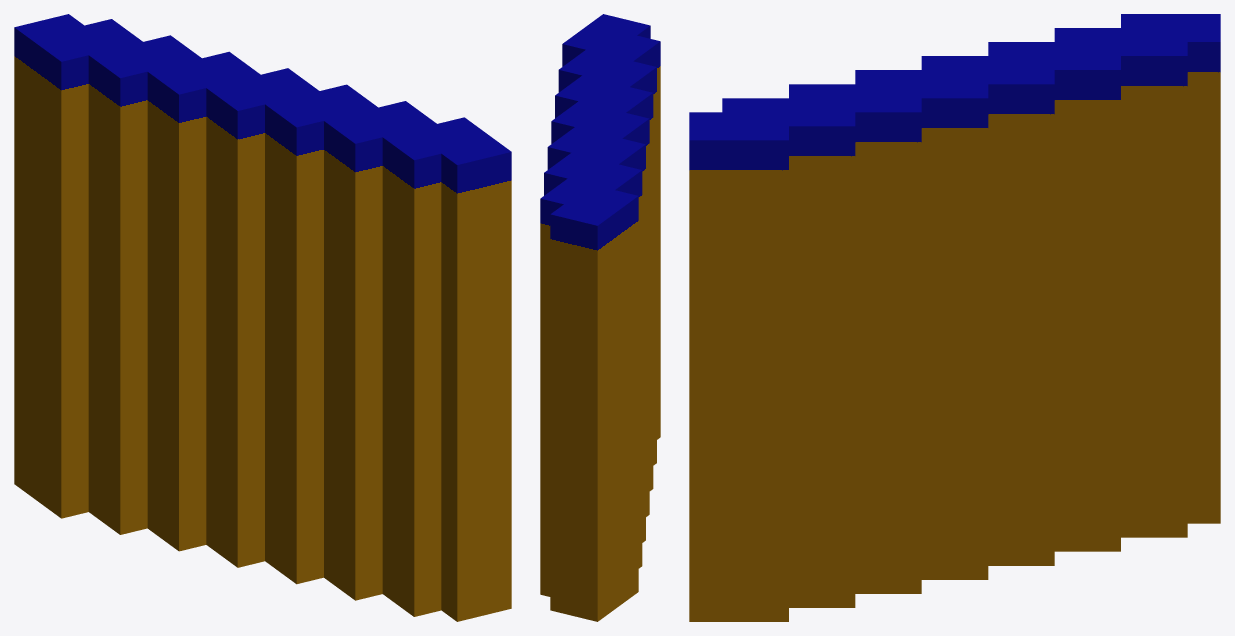
Rendered from river_h.gltf.
3 renders of one model, left to right at view 1: azimuth 30°, elevation 25°; view 2: azimuth 150°, elevation 25°; view 3: azimuth 270°, elevation 25°, orthographic. The views are drawn at different scales.
Visible parts, largest first — view 1: Content-Mesh; view 2: Content-Mesh; view 3: Content-Mesh.
Part boxes in pixels (left/top/right/bottom): Content-Mesh: left=14, top=14, right=511, bottom=621; Content-Mesh: left=540, top=14, right=660, bottom=621; Content-Mesh: left=689, top=14, right=1220, bottom=621.
Bounding box in the file's own units: 9 × 16 × 16.
Materials: 1 (1 with a texture image).
